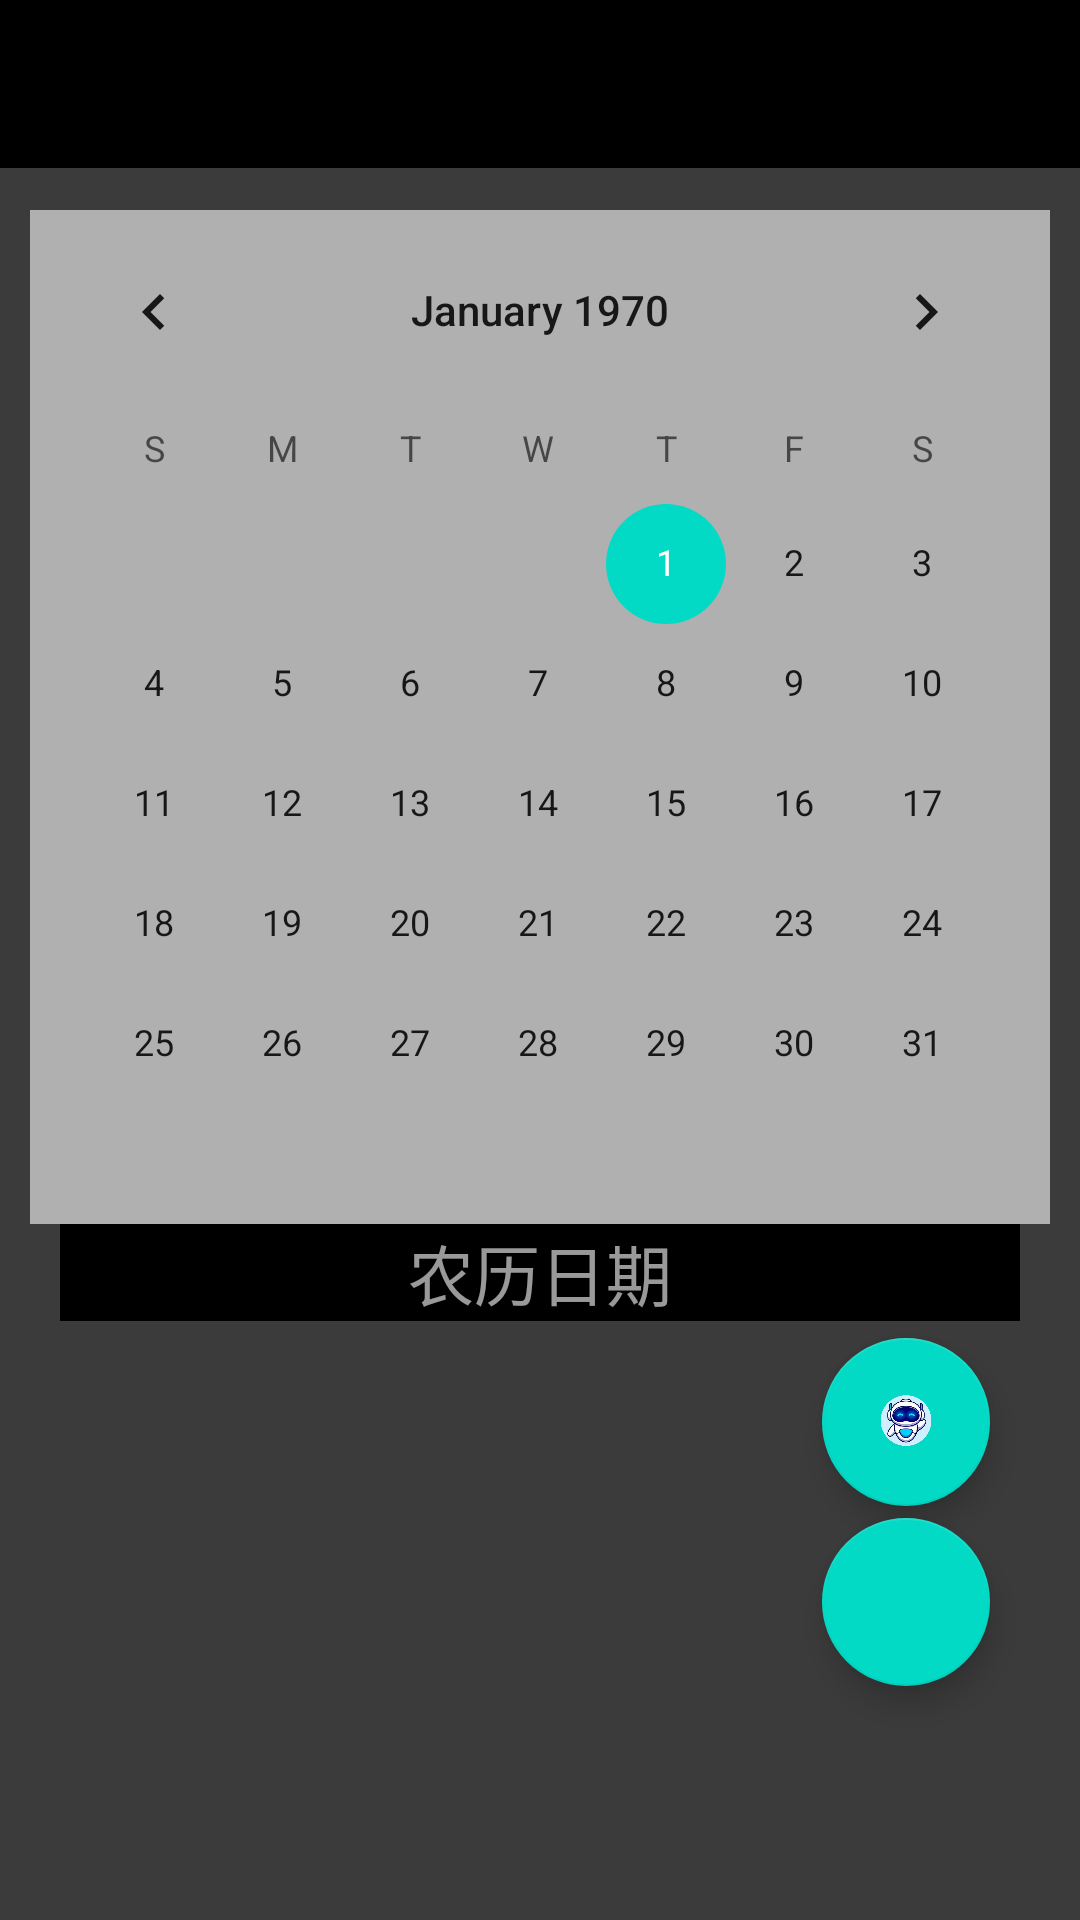

Icon click points for this 1080 x 1920 phone screenshot, format (x,y):
robot: (906,1422)
